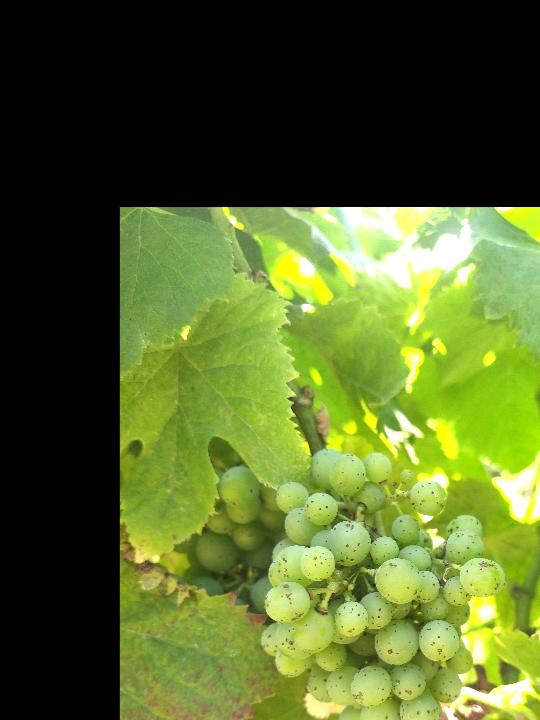grape: (258, 447, 507, 720)
